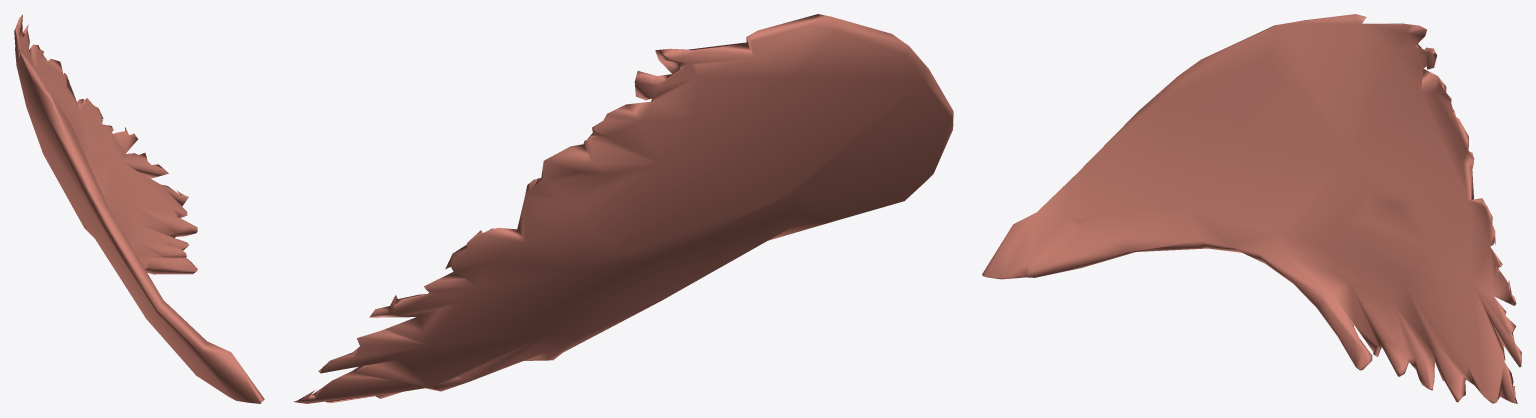
3 renders of one model, left to right at view 1: azimuth 30°, elevation 25°; view 2: azimuth 150°, elevation 25°; view 3: azimuth 270°, elevation 25°, orthographic. The views are drawn at different scales.
Visible parts, largest first — view 1: 右侧降口角肌; view 2: 右侧降口角肌; view 3: 右侧降口角肌.
Boxes of the visible parts, x1,y1,x2,y2 form: 右侧降口角肌: [14, 14, 264, 403]; 右侧降口角肌: [294, 14, 953, 403]; 右侧降口角肌: [982, 14, 1521, 403].
Size of the model in its own units: 0.0359 by 0.0353 by 0.0614.
